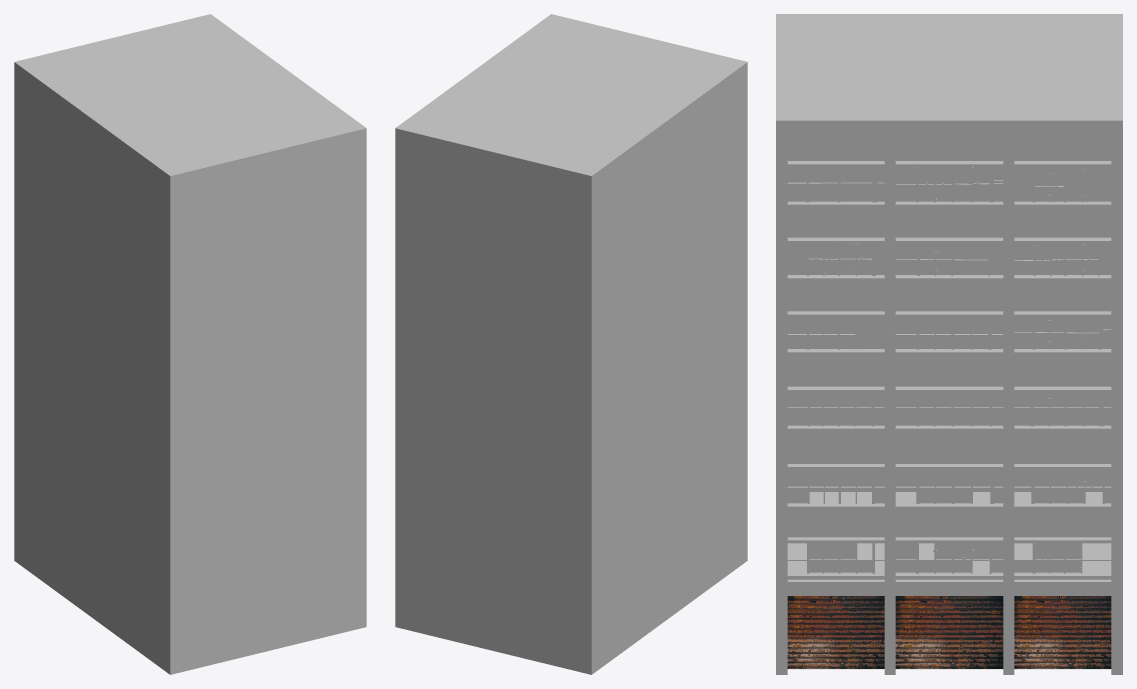
3 views of the same model, side by side, from view 1: azimuth 30°, elevation 25°; view 2: azimuth 150°, elevation 25°; view 3: azimuth 270°, elevation 25° (orthographic). The views are drawn at different scales.
Parts seen in each view (by area): view 1: Cube; view 2: Cube; view 3: Cube, 2_Door1_0, 1_Door1_0, 3_Door1_0.
Boxes of the visible parts, x1,y1,x2,y2 form: Cube: (14, 14, 366, 674); Cube: (395, 14, 747, 674); Cube: (776, 14, 1122, 674); 2_Door1_0: (895, 596, 1003, 668); 1_Door1_0: (787, 596, 884, 668); 3_Door1_0: (1014, 596, 1111, 668).
Bounding box in the file's own units: 3.49 × 8.46 × 4.8.
